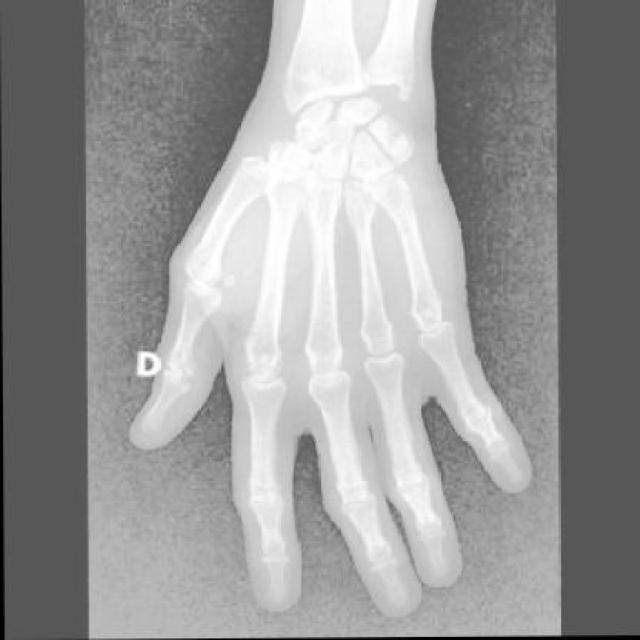Fracture: (289, 117, 319, 136)
